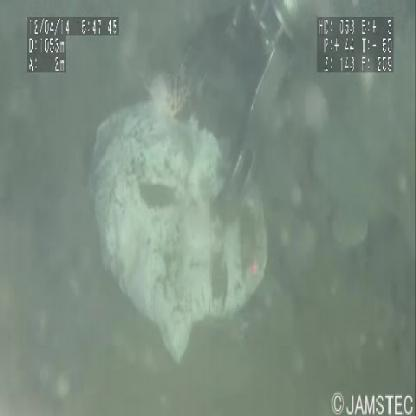Rác: (93, 76, 270, 361)
